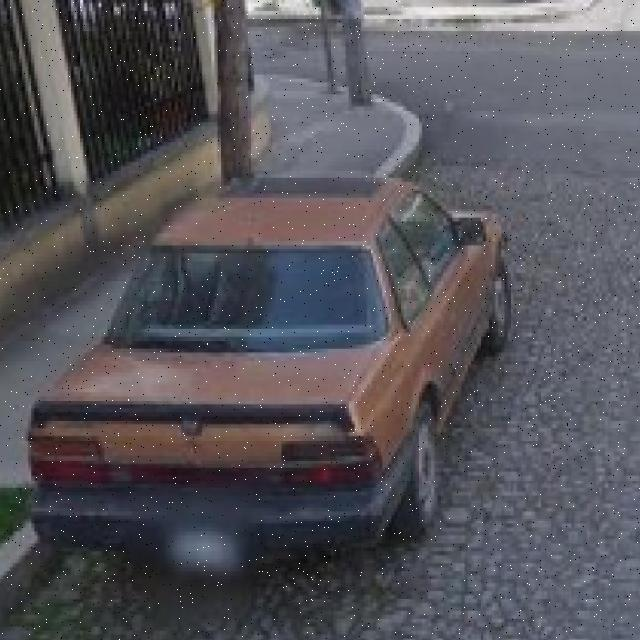car: (31, 190, 511, 568)
